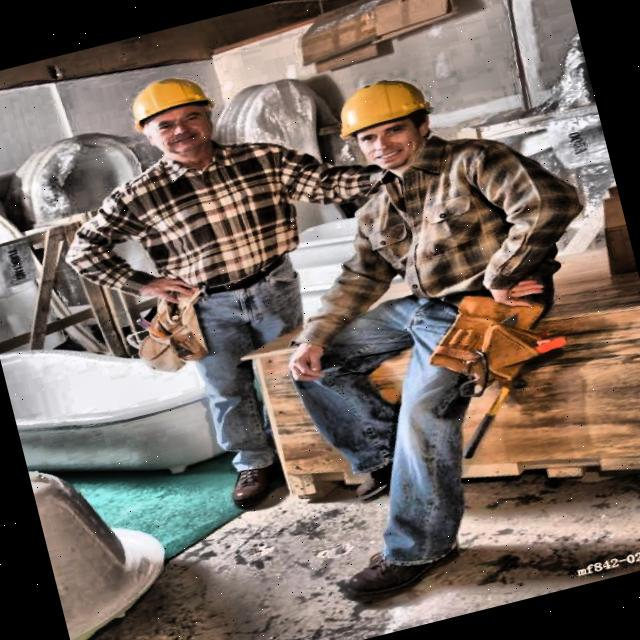helmet: (320, 64, 451, 180), (113, 58, 234, 175)
